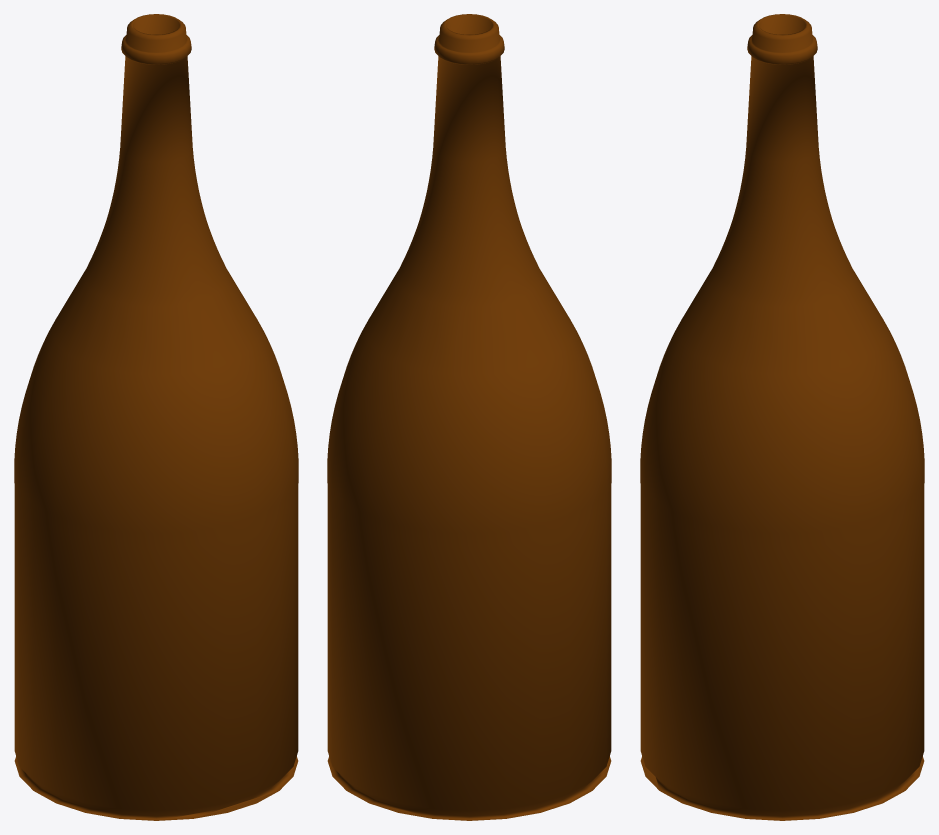
3 renders of one model, left to right at view 1: azimuth 30°, elevation 25°; view 2: azimuth 150°, elevation 25°; view 3: azimuth 270°, elevation 25°, orthographic.
Parts seen in each view (by area): view 1: mesh1_mesh1-geometry; view 2: mesh1_mesh1-geometry; view 3: mesh1_mesh1-geometry.
Part boxes in pixels (x1,y1,x2,y2): mesh1_mesh1-geometry: (14, 14, 298, 820); mesh1_mesh1-geometry: (327, 14, 611, 820); mesh1_mesh1-geometry: (640, 14, 924, 820).
Bounding box in the file's own units: 0.314 × 0.896 × 0.314.
